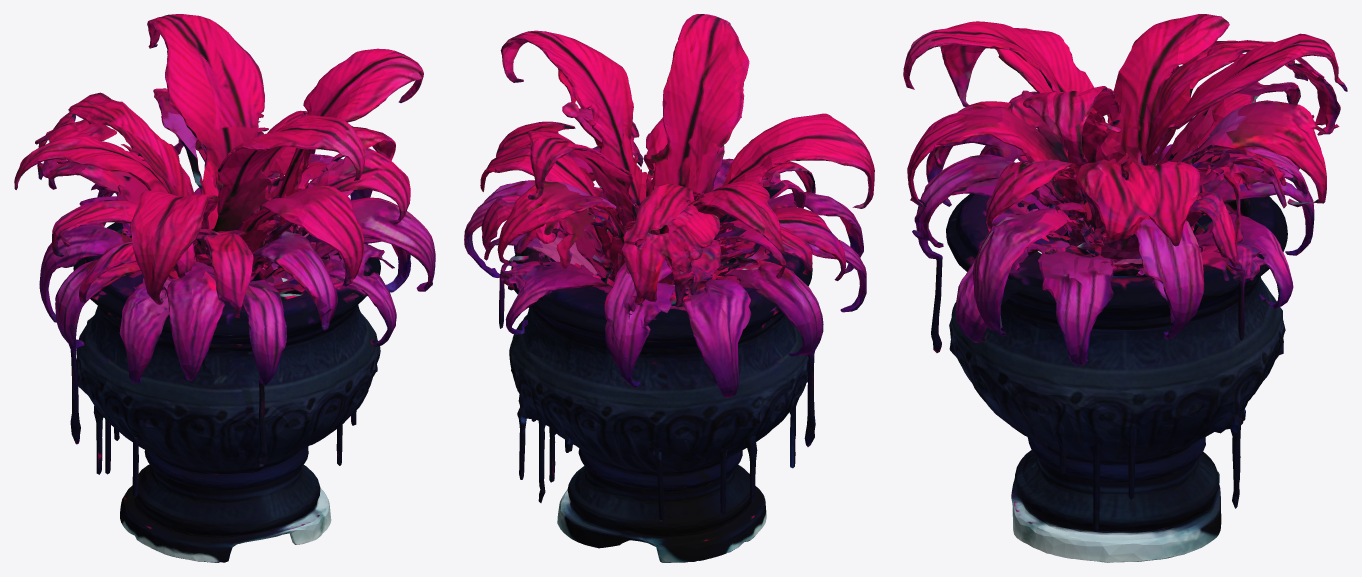
The model's file is growth-planter-generated-2026-05-17T18-51-24-217Z.glb.
3 renders of one model, left to right at view 1: azimuth 30°, elevation 25°; view 2: azimuth 150°, elevation 25°; view 3: azimuth 270°, elevation 25°, orthographic. The views are drawn at different scales.
Parts seen in each view (by area): view 1: temp_mesh.ply; view 2: temp_mesh.ply; view 3: temp_mesh.ply.
Part boxes in pixels (<box>): temp_mesh.ply: <box>14,14,435,562</box>; temp_mesh.ply: <box>464,14,874,562</box>; temp_mesh.ply: <box>903,14,1347,562</box>.
Size of the model in its own units: 1.62 by 1.97 by 1.59.
1 material, 1 textured.
